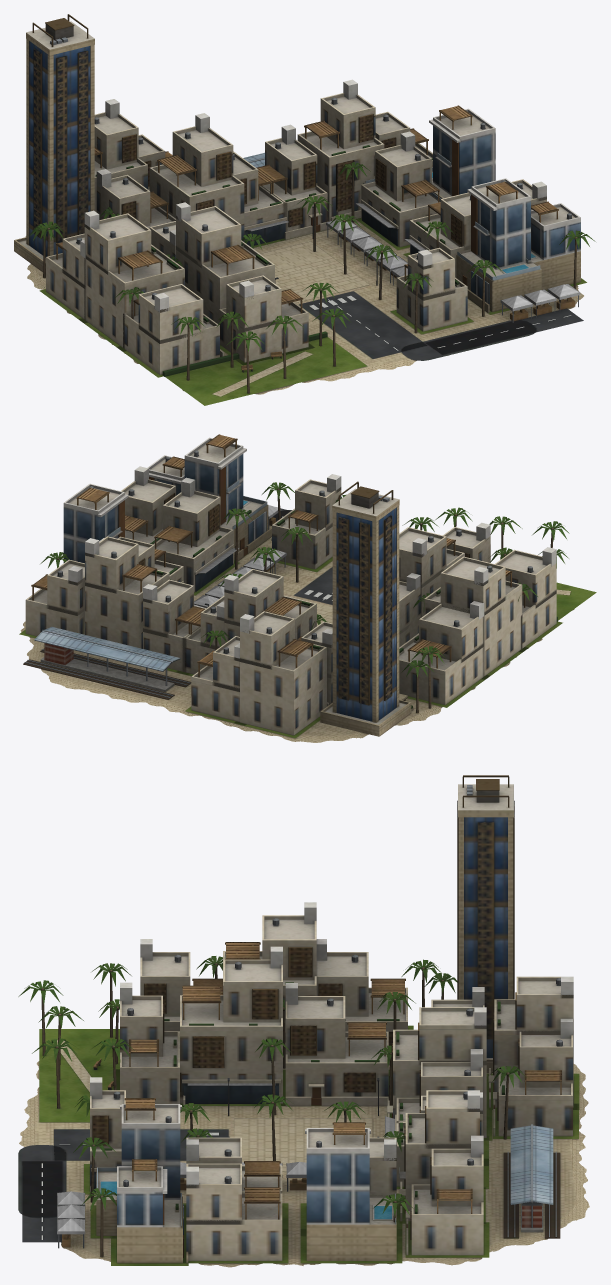
File: modern-town-medium-a-levant.glb
The picture shows the model from 3 angles, top to bottom: view 1: azimuth 30°, elevation 25°; view 2: azimuth 150°, elevation 25°; view 3: azimuth 270°, elevation 25°; orthographic projection. The views are drawn at different scales.
Parts seen in each view (by area): view 1: LOD0; view 2: LOD0; view 3: LOD0.
Boxes of the visible parts, x1=… form: LOD0: x1=14, y1=14, x2=595, y2=405; LOD0: x1=19, y1=434, x2=596, y2=742; LOD0: x1=18, y1=775, x2=589, y2=1267.
Size of what is drawn, in the model's own units: 6.08 by 3.15 by 6.07.
Materials: 3 (3 with a texture image).
